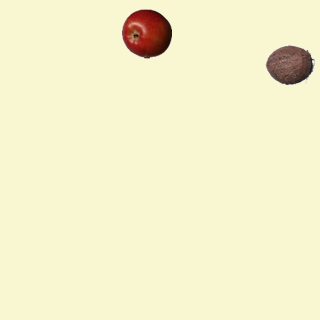Apple Braeburn: (121, 8, 171, 58)
Cocos: (264, 39, 314, 89)
